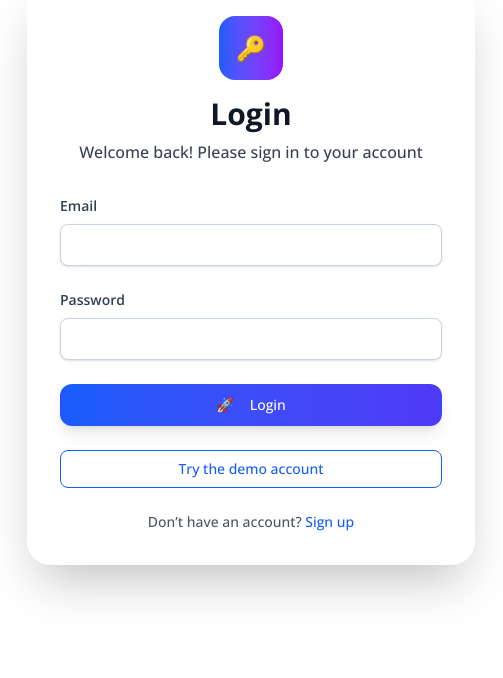
LoginForm Component › shows validation error for invalid email
The image size is (503, 678).
Type "invalid-email" into the field labelled "Email" at (251, 245), box [60,224,442,266]
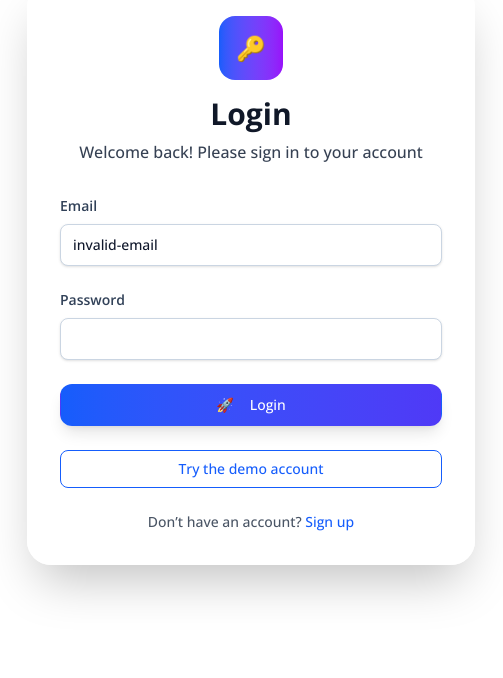
Click the button "🚀 Login" at (251, 405), box [60,384,442,426]
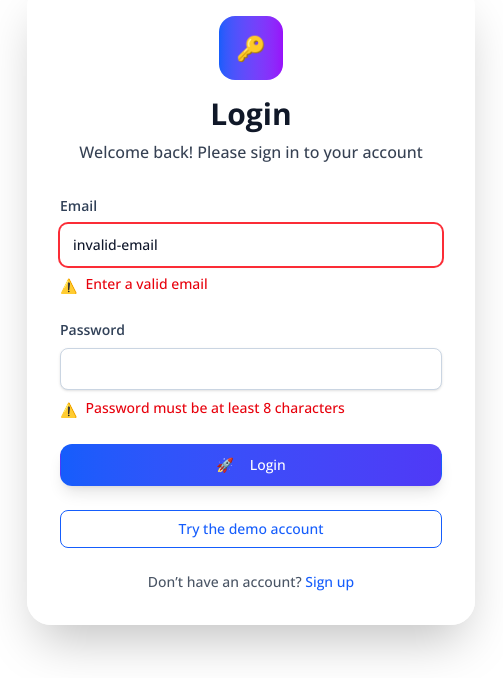
Check: the text "Enter a valid email" is shown, box [86,274,208,294]
